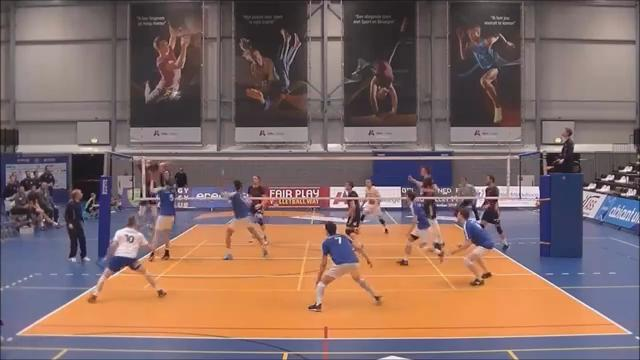attacco: (133, 151, 170, 236)
muro: (143, 175, 177, 261)
